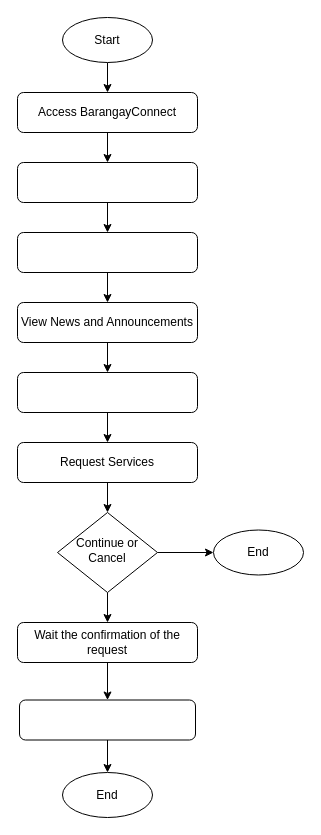
The diagram is 321 pixels wide and 835 high, and some of its shapes have lost their labels. The shapes that lost their labels are listed below. From the top down, each one's centre as x and y in pixels, then its label:
At (107,182): "Login/Register".
At (107,252): "Dashboard".
At (107,392): "Report/Complaint an Issue".
At (107,719): "View the specific requirements for your request".
